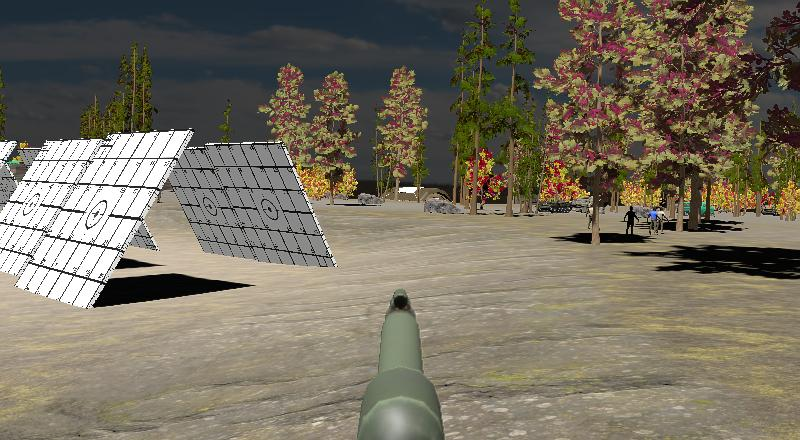Human: (648, 204, 663, 236)
Tank: (536, 199, 572, 214)
